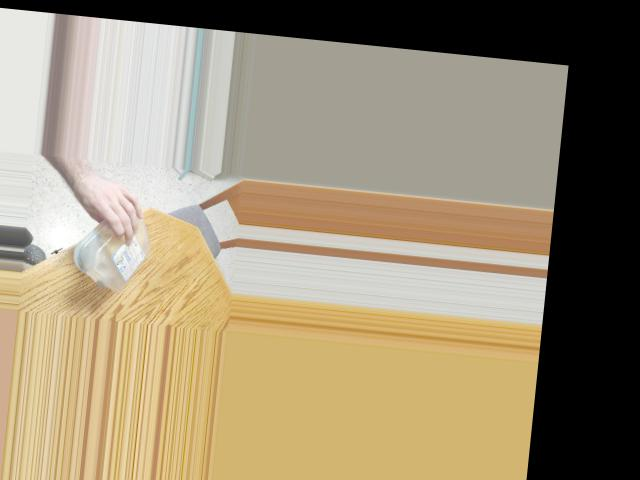cheese: (74, 193, 156, 295)
